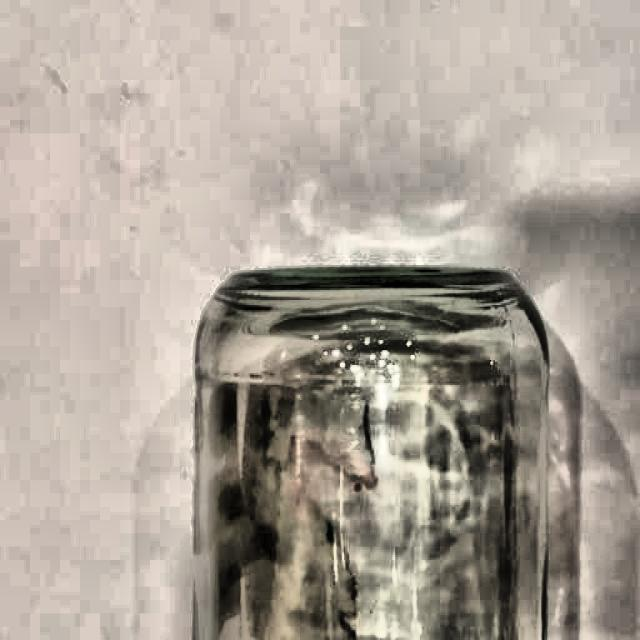glass: (191, 265, 544, 640)
